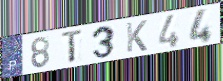3: (91, 24, 119, 62)
4: (188, 8, 214, 45), (157, 12, 181, 49)
8: (30, 36, 52, 69)
K: (125, 19, 148, 54)
T: (60, 28, 85, 66)
